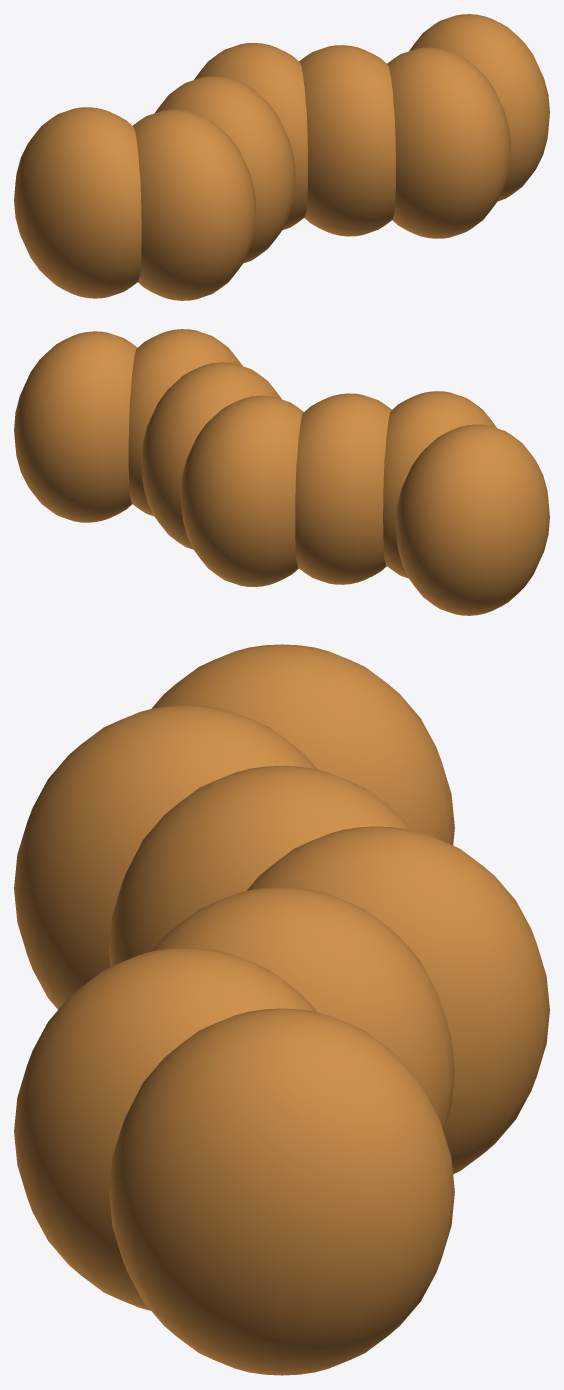
File: wp-brioche-tressee.glb
3 views of the same model, one above another, from view 1: azimuth 30°, elevation 25°; view 2: azimuth 150°, elevation 25°; view 3: azimuth 270°, elevation 25° (orthographic). The views are drawn at different scales.
Parts seen in each view (by area): view 1: wp-brioche-tressee; view 2: wp-brioche-tressee; view 3: wp-brioche-tressee.
Boxes of the visible parts, x1,y1,x2,y2 form: wp-brioche-tressee: [14, 14, 549, 300]; wp-brioche-tressee: [14, 329, 549, 615]; wp-brioche-tressee: [14, 644, 549, 1375].
Bounding box in the file's own units: 0.3 × 0.1 × 0.14.
